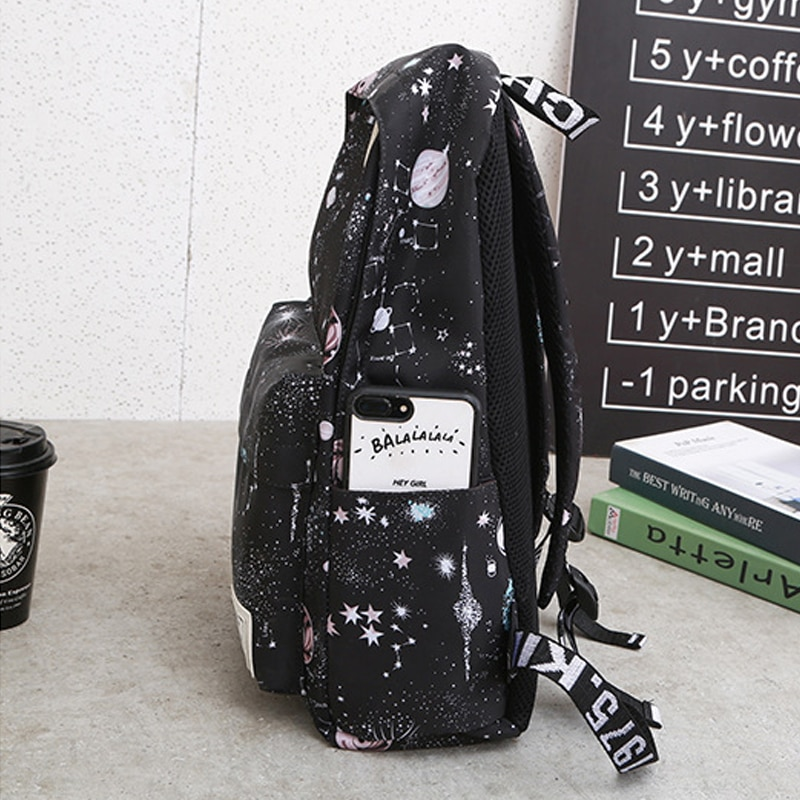Men's Backpacks: (229, 43, 662, 780)
